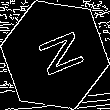N_W: (26, 27, 84, 83)
